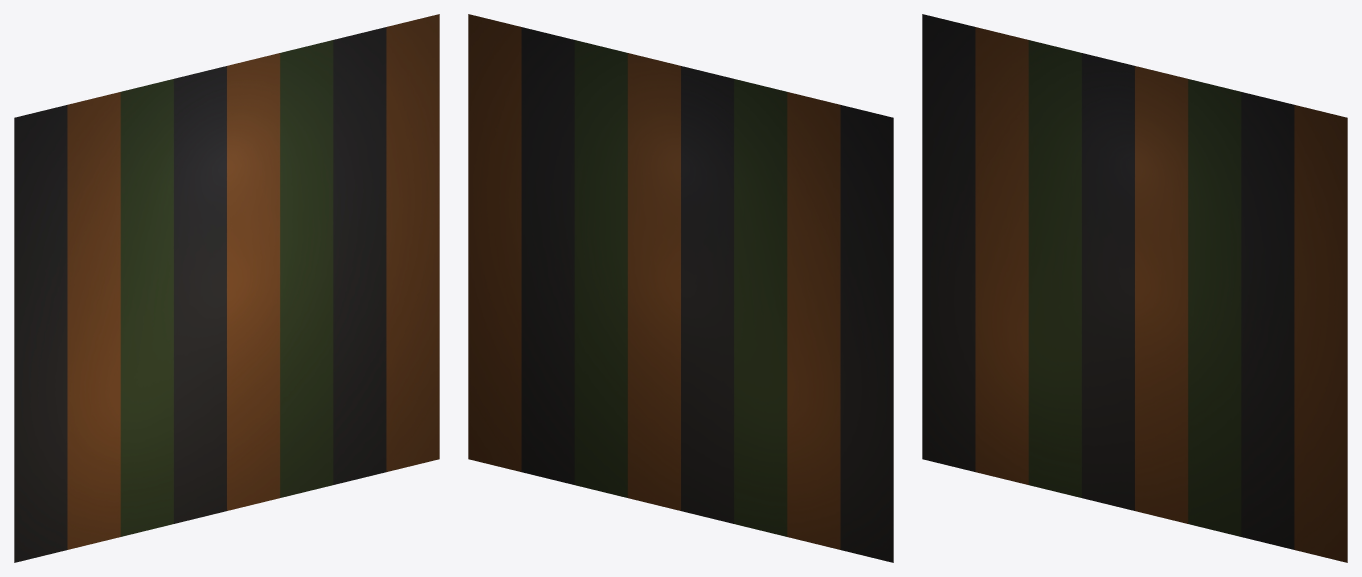
The model's file is canbadge02+.glb.
3 renders of one model, left to right at view 1: azimuth 30°, elevation 25°; view 2: azimuth 150°, elevation 25°; view 3: azimuth 330°, elevation 25°, orthographic.
Visible parts, largest first — view 1: Curtain; view 2: Curtain; view 3: Curtain.
Boxes of the visible parts, x1,y1,x2,y2 form: Curtain: [14, 14, 439, 562]; Curtain: [468, 14, 893, 562]; Curtain: [922, 14, 1347, 562].
Size of the model in its own units: 2.99 by 2.99 by 2.24e-07.
1 material, 1 textured.
